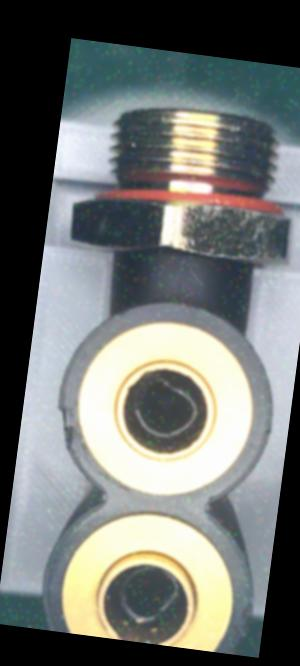bump: (53, 399, 79, 447)
joint line: (170, 254, 187, 301)
off-centered: (124, 367, 208, 452), (108, 556, 185, 634)
white mark: (185, 264, 205, 290)
